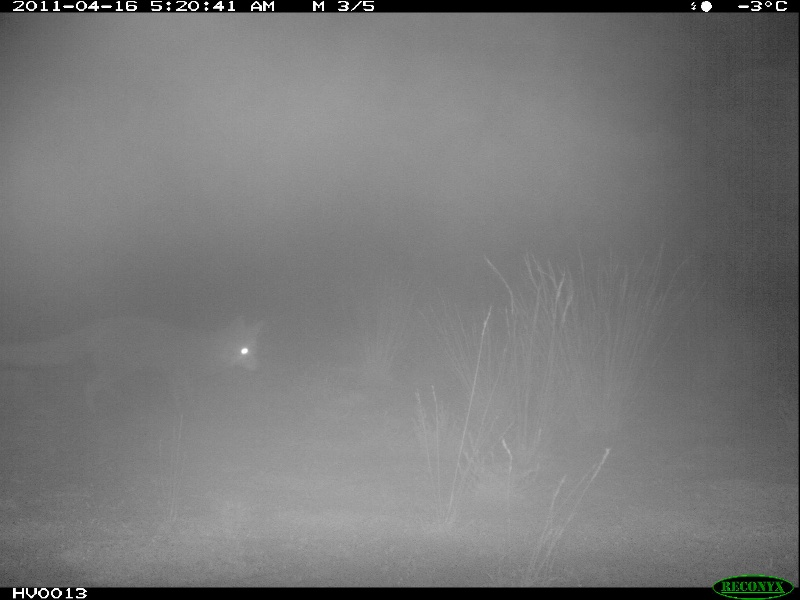fox: (3, 291, 267, 405)
